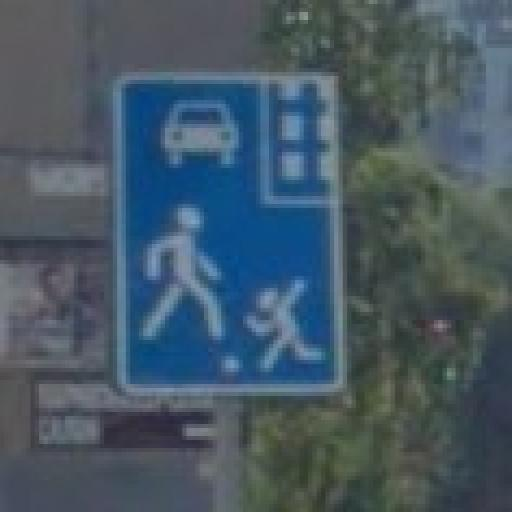traffic_sign: (114, 69, 348, 397)
